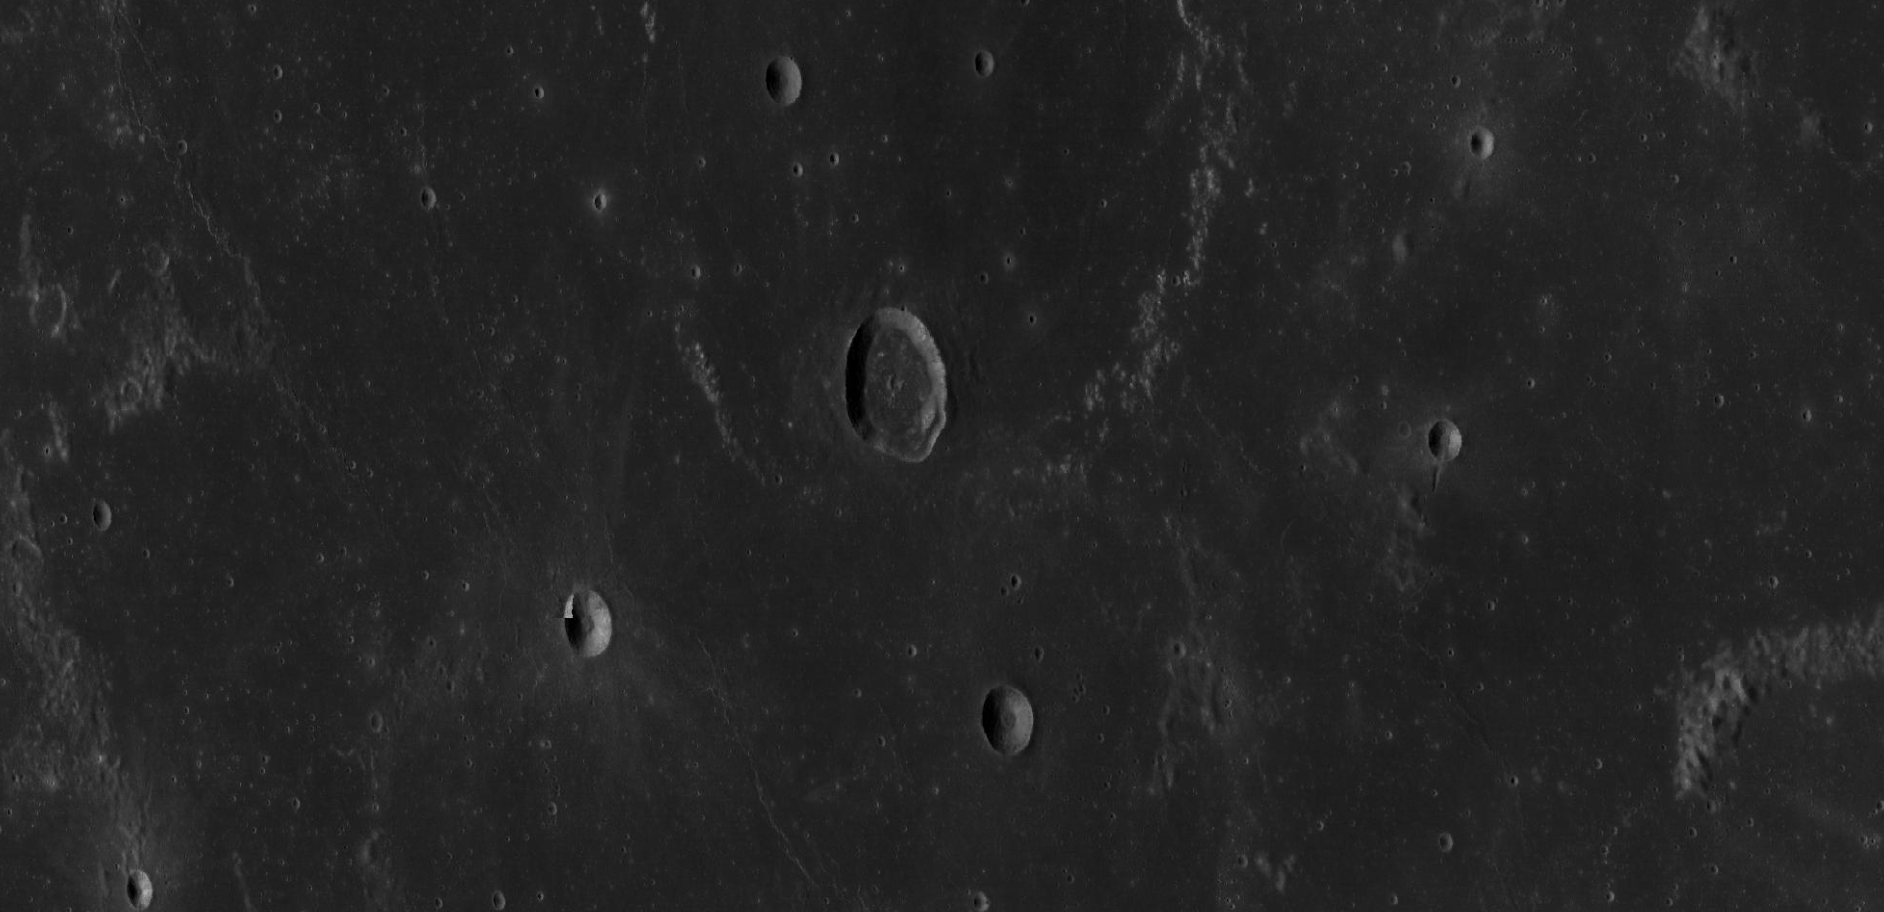crater: (813, 299, 984, 507), (962, 672, 1051, 787), (740, 36, 839, 129), (1417, 404, 1480, 491), (1457, 118, 1521, 172), (943, 43, 1016, 89), (405, 173, 454, 225), (1423, 819, 1471, 869)
